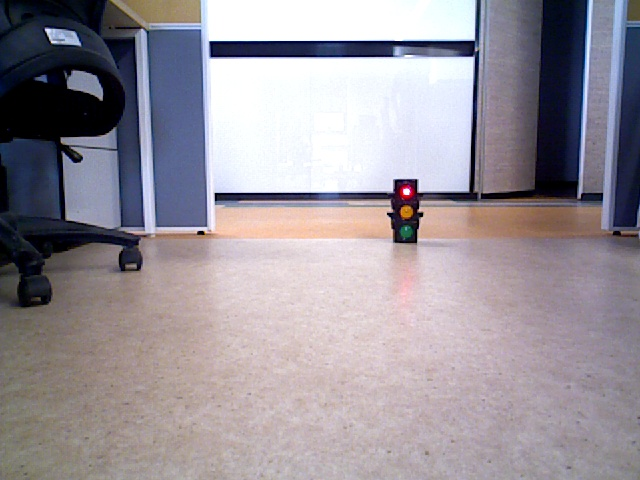red: (391, 181, 416, 238)
